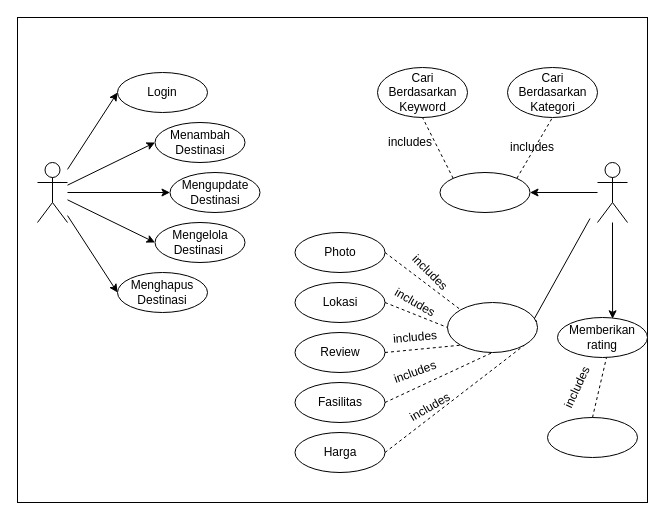
Some shapes in this 665 by 520 pixel diagram are drawn without their labels. The box of each missing label's shape, as (x1, y1, x2, y2) in pixels:
Admin: (36, 162, 68, 222)
Melihat Detail Destinasi: (446, 302, 538, 352)
Melihat Rating: (546, 416, 638, 458)
Mencari Destinasi: (439, 172, 530, 212)
User: (596, 162, 628, 222)
